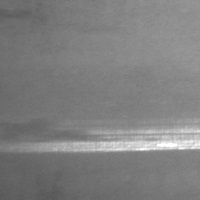scratches: (22, 119, 199, 153)
